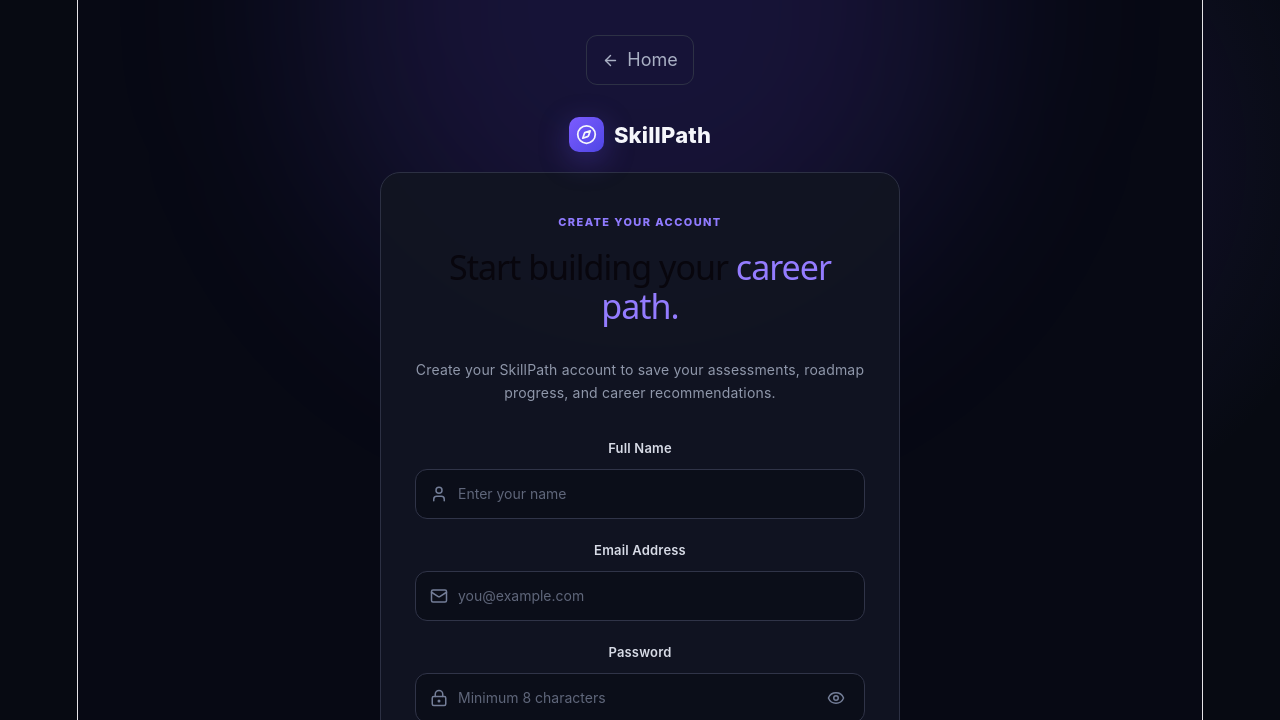
Test case: Register page › toggles password visibility
The image size is (1280, 720).
Click the button named "Show password" at (836, 698), box [822, 684, 850, 712]
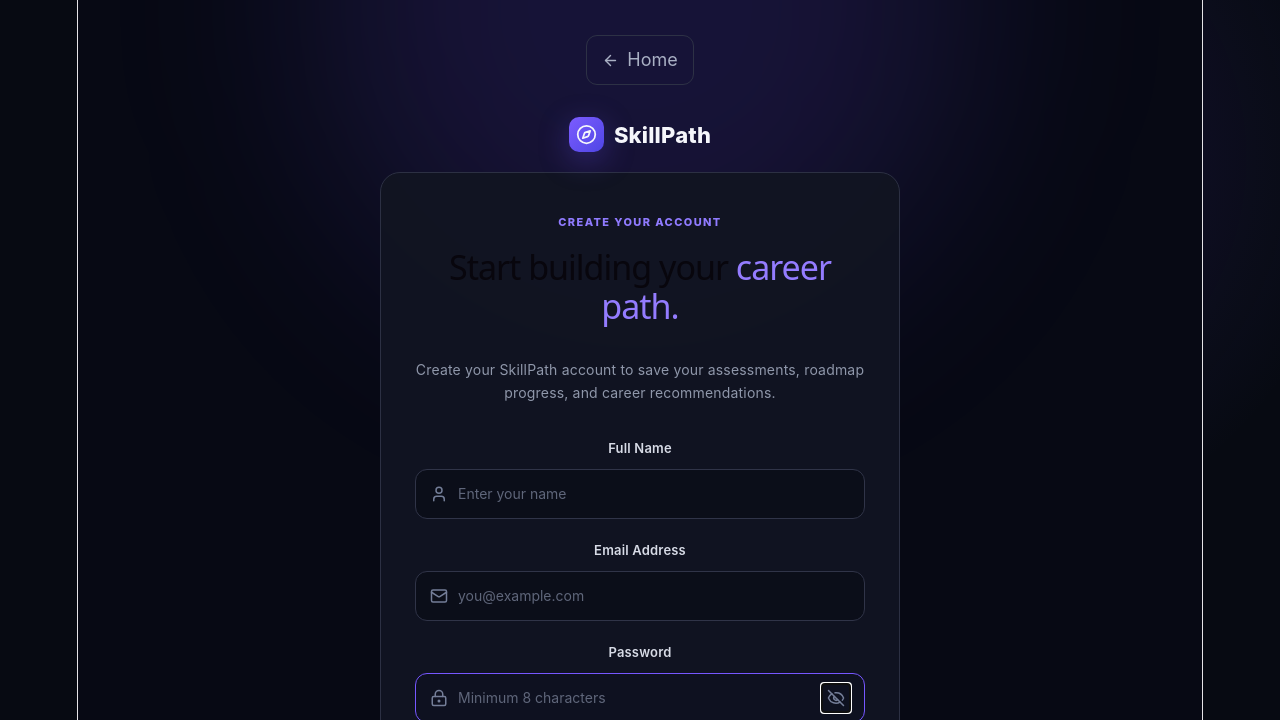
Expected: the button named "Hide password" is shown, [822, 684, 850, 712]
